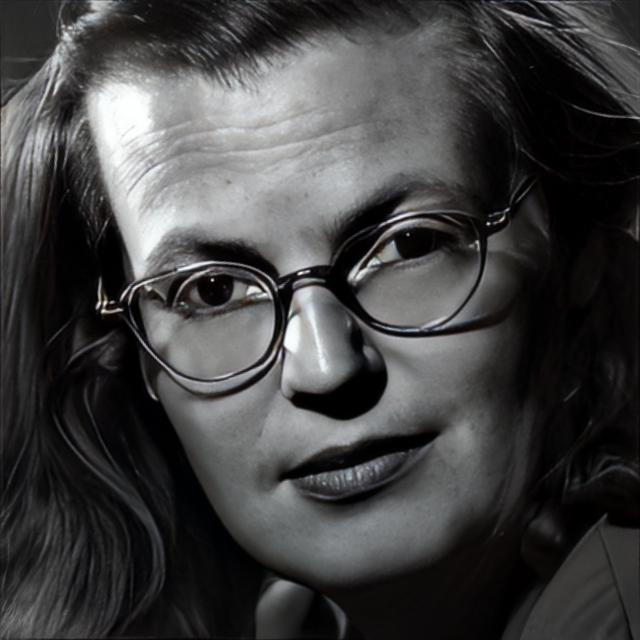content: (82, 21, 554, 602)
